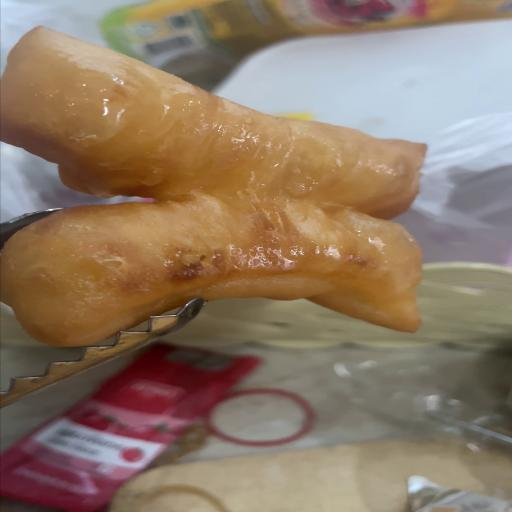street_burnt_good: (0, 27, 426, 219), (0, 193, 421, 346)
